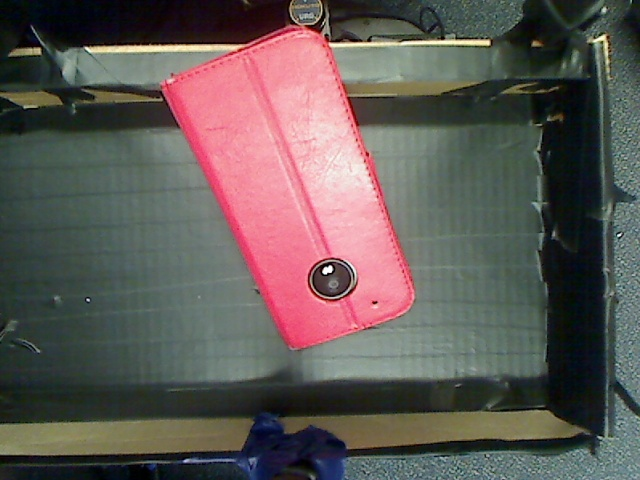phone: (148, 26, 422, 355)
